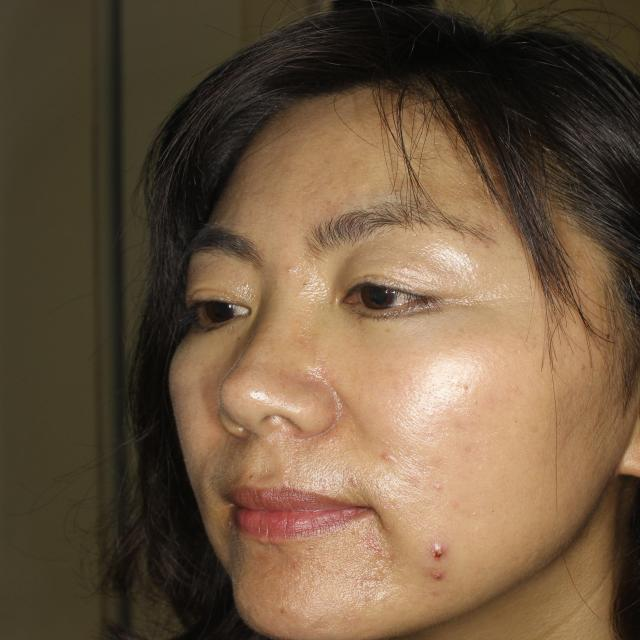acne: (420, 538, 451, 592)
